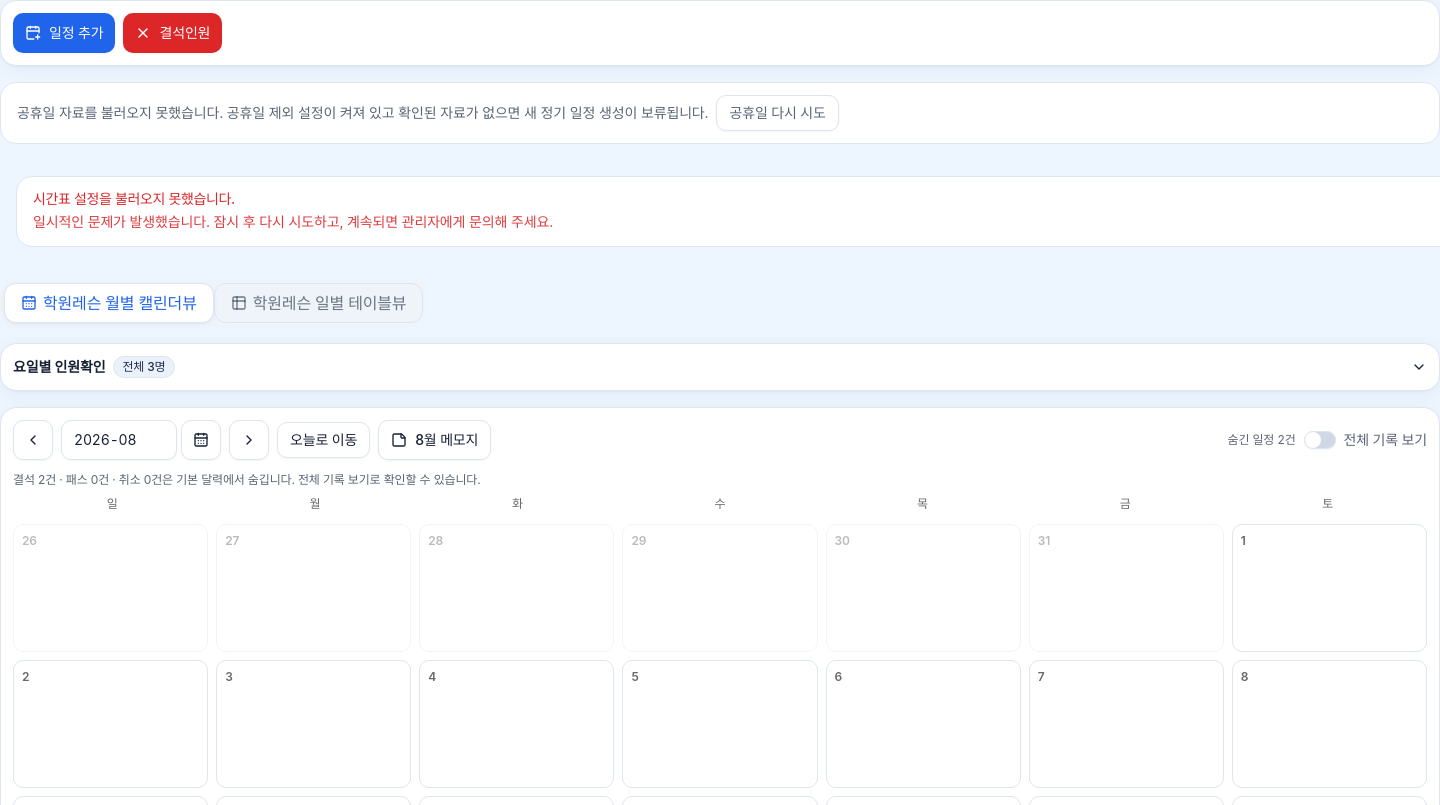
Test: 학원 레슨표 서버 연결 › 공휴일 조회가 실패해도 서버에서 해당 월 준비를 확인하면 추천할 수 있다
The width and height of the screenshot is (1440, 805).
Click the button "결석인원".
click(173, 33)  # box [124,13,222,53]
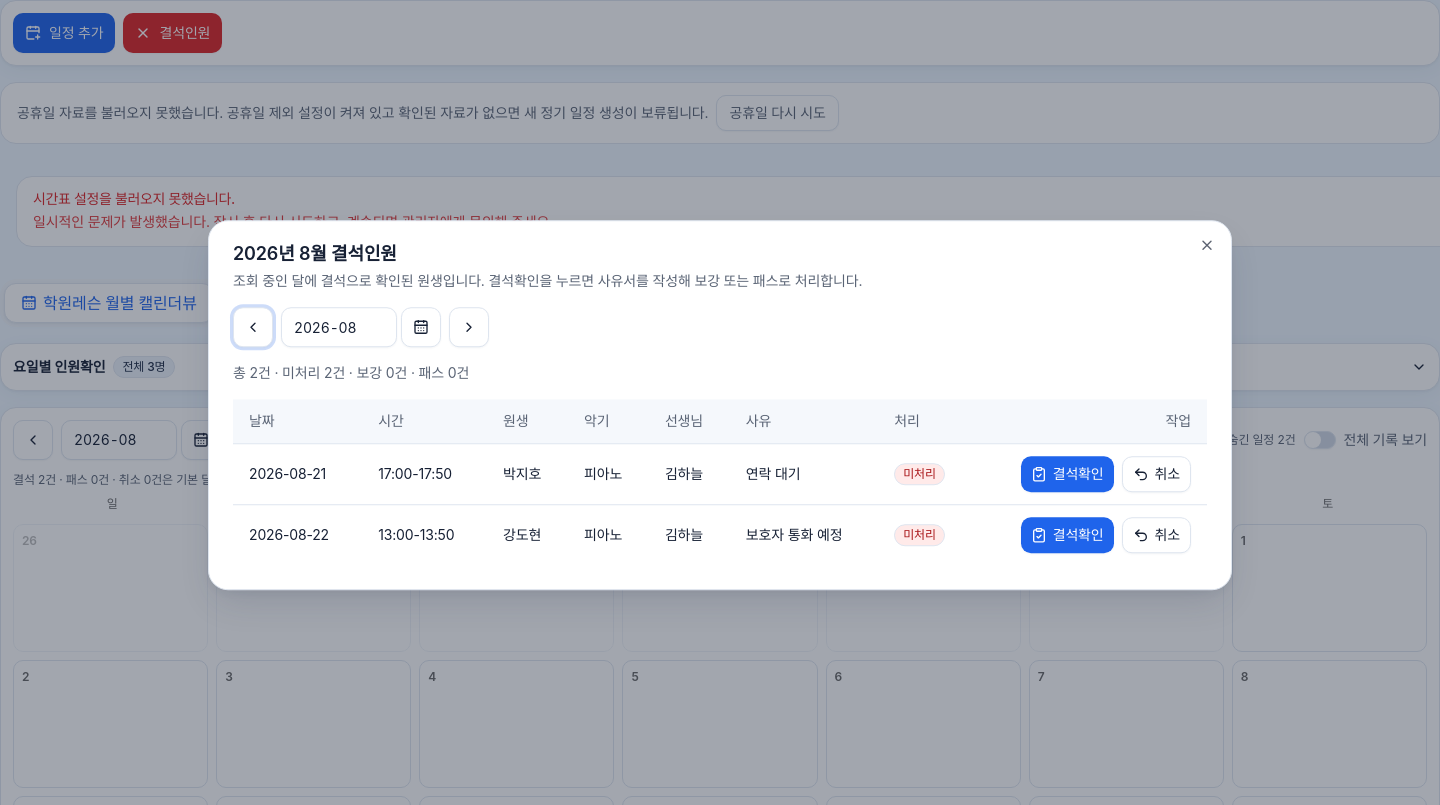
Click the button with aria-label "박지호 결석확인".
click(1067, 474)  # box [1021,456,1114,492]
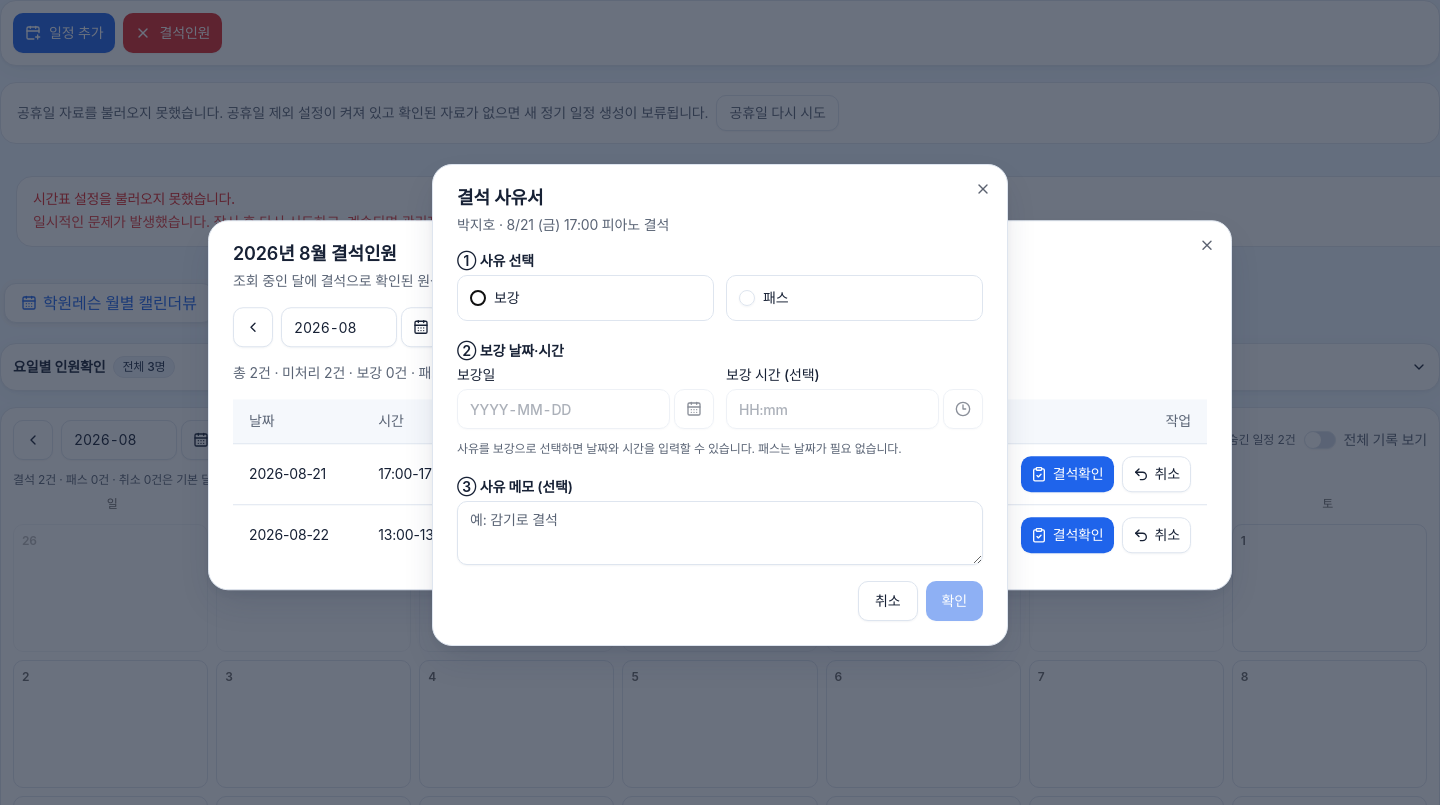
Click the 1st radio button named "보강".
click(478, 298)  # box [470,290,486,306]
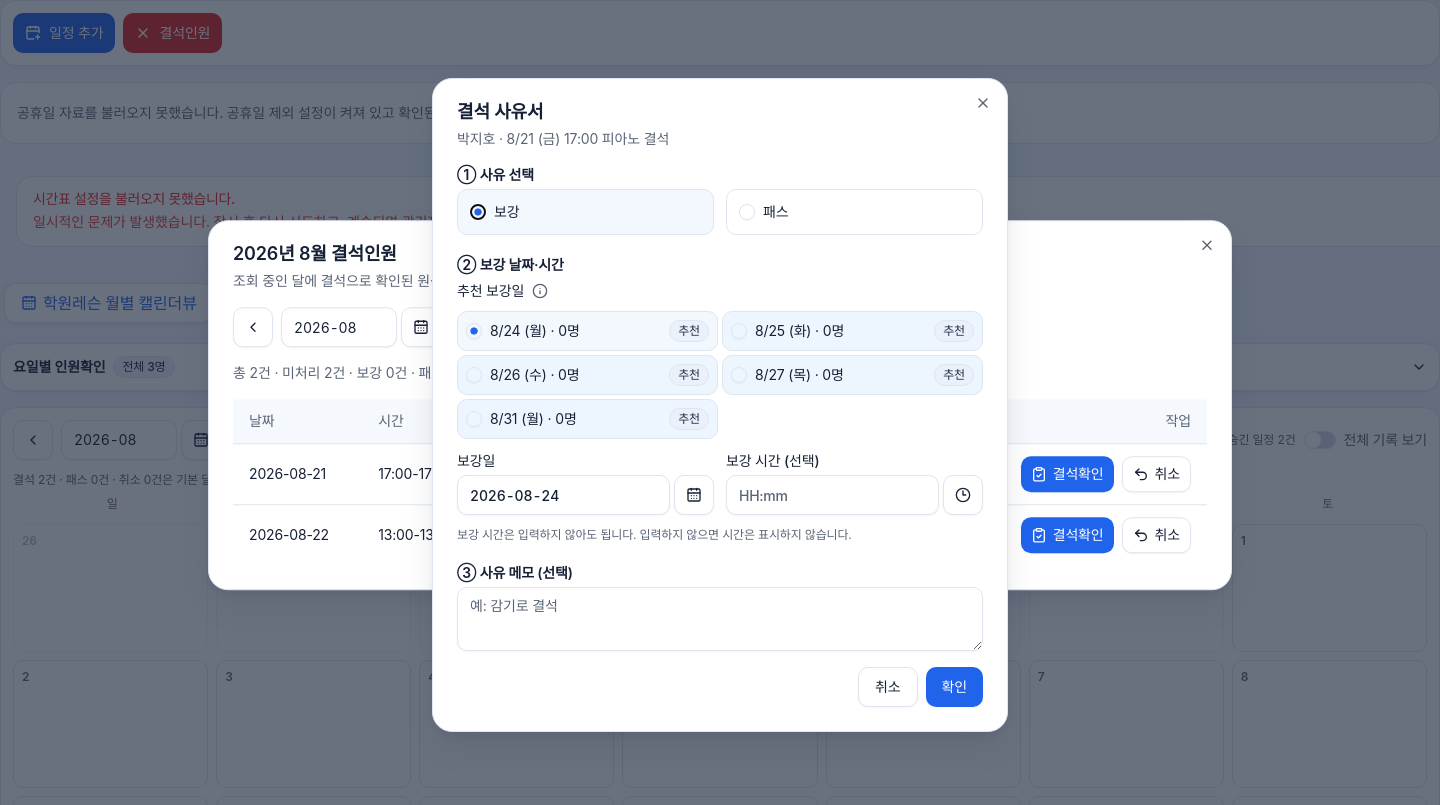
Check: the element named "추천 보강일" is shown, box [457,311,983,439]
